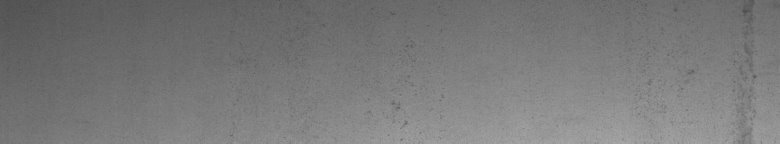ib: (647, 4, 757, 85)
